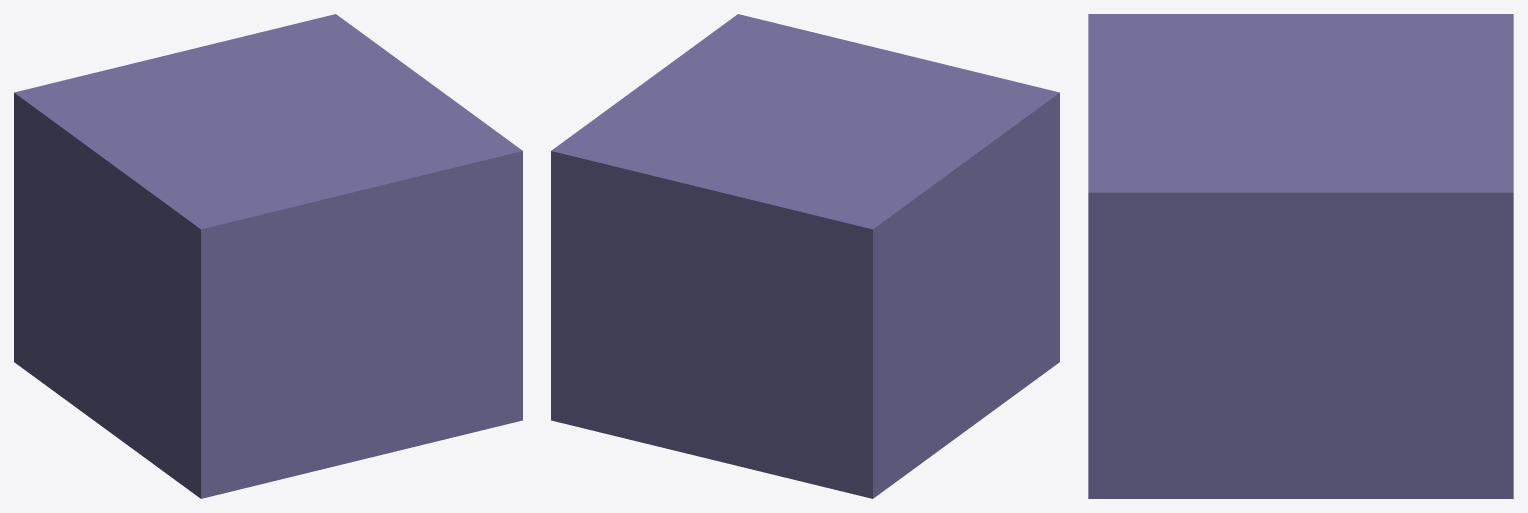
The model's file is BlockACocina04.fbx.
3 views of the same model, side by side, from view 1: azimuth 30°, elevation 25°; view 2: azimuth 150°, elevation 25°; view 3: azimuth 270°, elevation 25° (orthographic). The views are drawn at different scales.
Parts seen in each view (by area): view 1: MesadaCocina3; view 2: MesadaCocina3; view 3: MesadaCocina3.
Part boxes in pixels (<box>): MesadaCocina3: <box>14,14,522,498</box>; MesadaCocina3: <box>551,14,1059,498</box>; MesadaCocina3: <box>1088,14,1513,498</box>.
Size of the model in its own units: 1 by 0.8 by 1.01.
